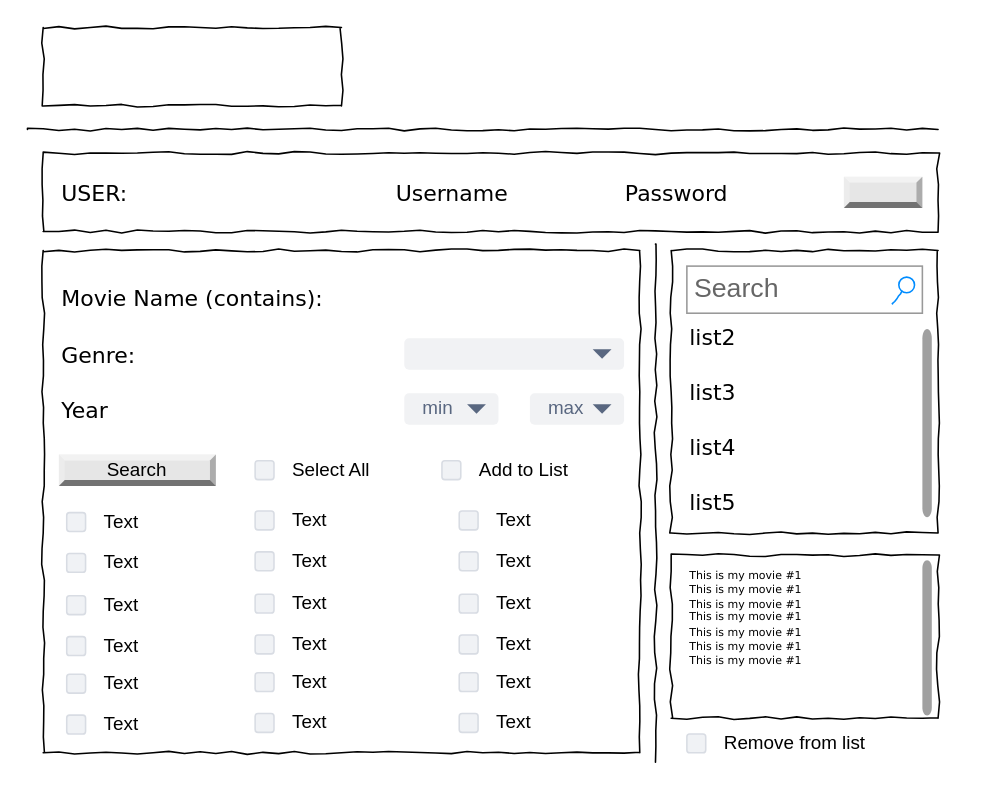
This 981x790 diagram has some shape labels left out. The box of each missing label's shape, as (x1, y1, x2, y2) in pixels:
genre: (403, 338, 623, 369)
Login: (843, 176, 922, 207)
LOGO: (42, 26, 341, 106)
